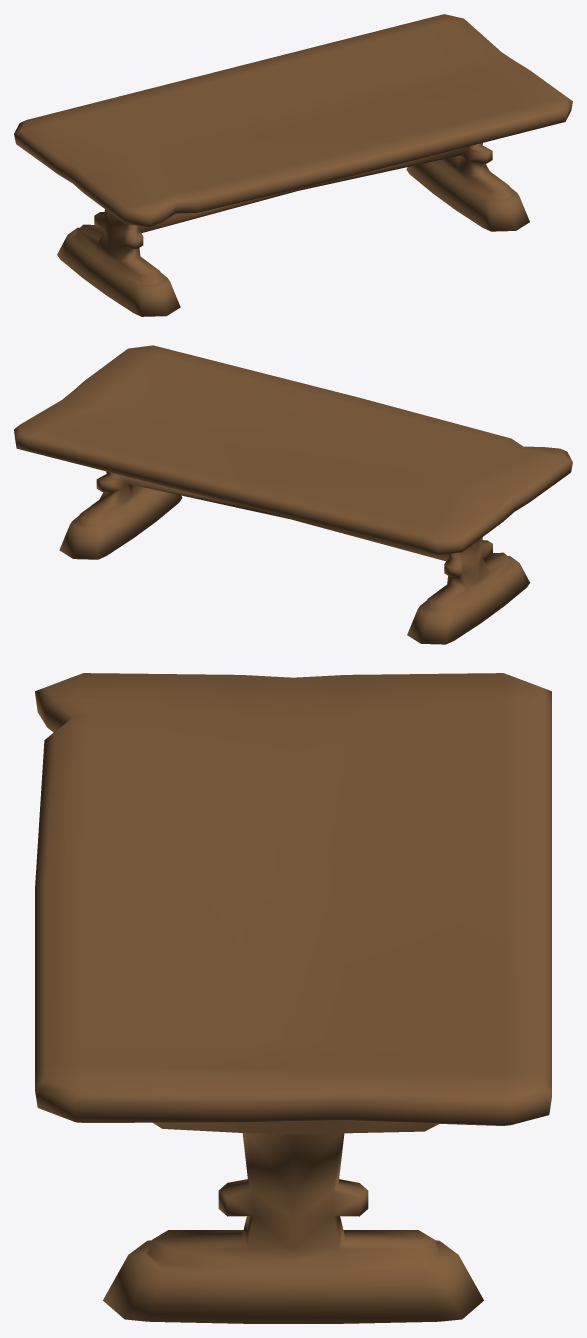
The model's file is Kitchen_Table.glb.
3 renders of one model, top to bottom at view 1: azimuth 30°, elevation 25°; view 2: azimuth 150°, elevation 25°; view 3: azimuth 270°, elevation 25°, orthographic. The views are drawn at different scales.
Parts seen in each view (by area): view 1: Kitchen_Table; view 2: Kitchen_Table; view 3: Kitchen_Table.
Boxes of the visible parts, <box> form: Kitchen_Table: <box>14,14,572,316</box>; Kitchen_Table: <box>14,345,572,644</box>; Kitchen_Table: <box>35,673,551,1323</box>.
Bounding box in the file's own units: 2.01 × 0.5411 × 1.
